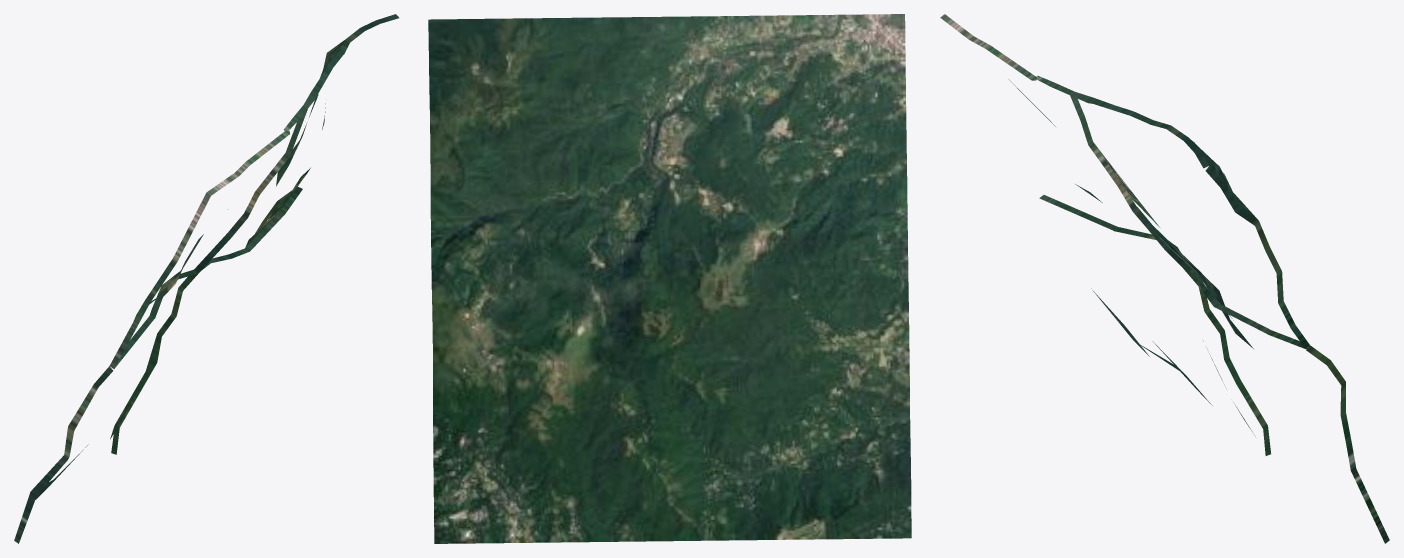
3 views of the same model, side by side, from view 1: azimuth 30°, elevation 25°; view 2: azimuth 150°, elevation 25°; view 3: azimuth 270°, elevation 25° (orthographic). The views are drawn at different scales.
Size of the model in its own units: 9684 by 9089 by 8594.
Materials: 1 (1 with a texture image).
